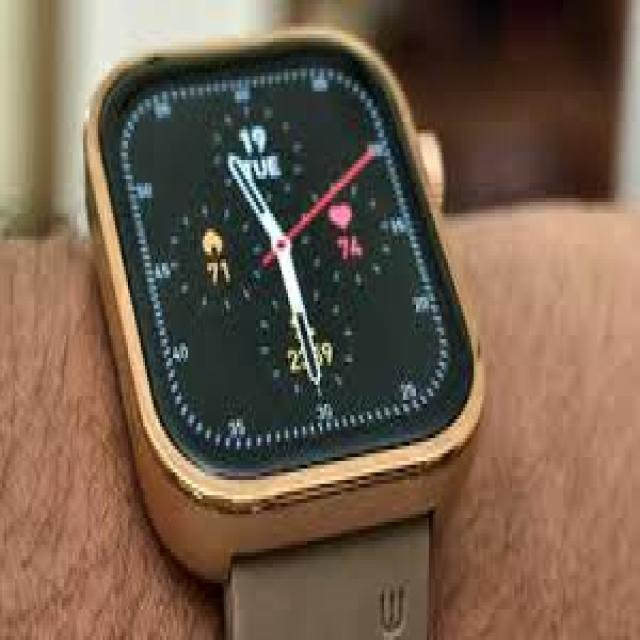objects: (83, 25, 482, 636)
